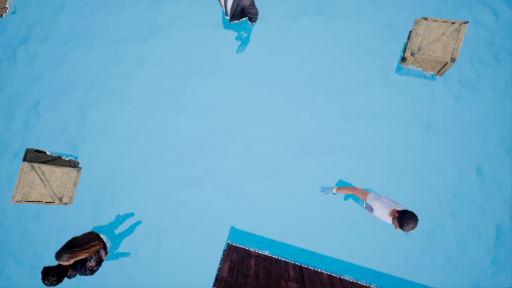person: (36, 212, 141, 281), (324, 179, 416, 234)
